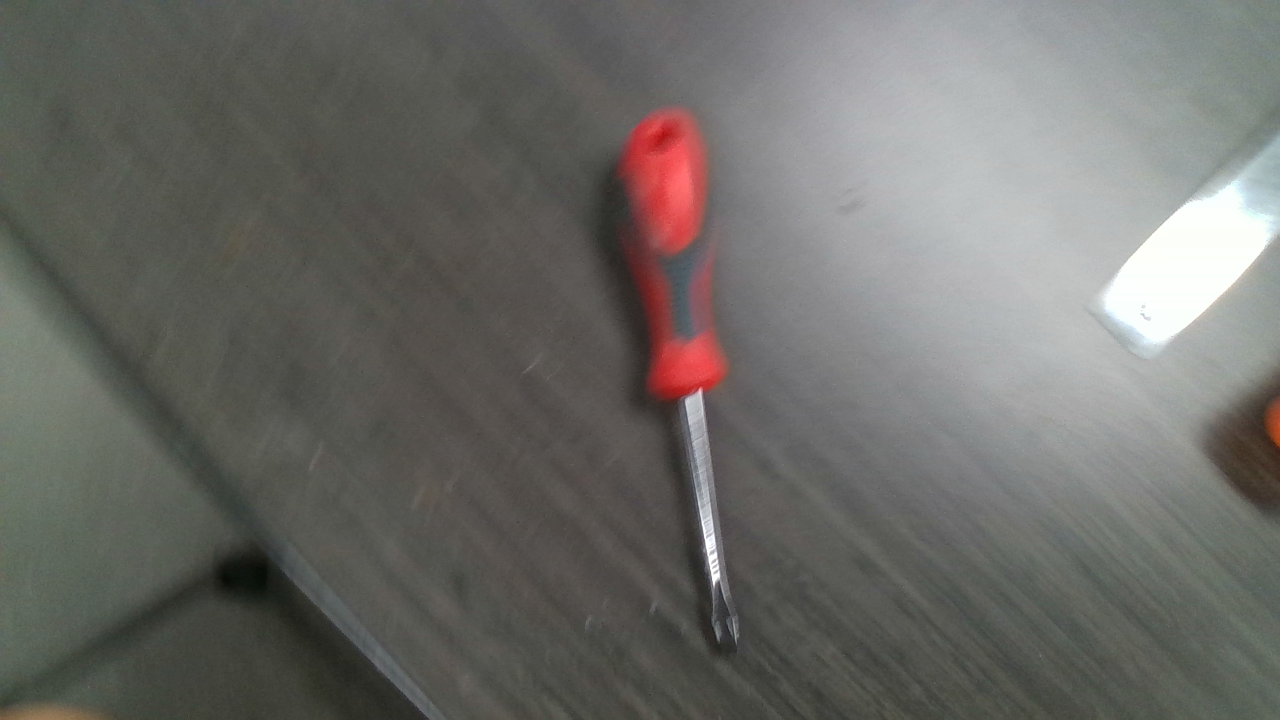Orange Hammer: (1264, 393, 1280, 450)
